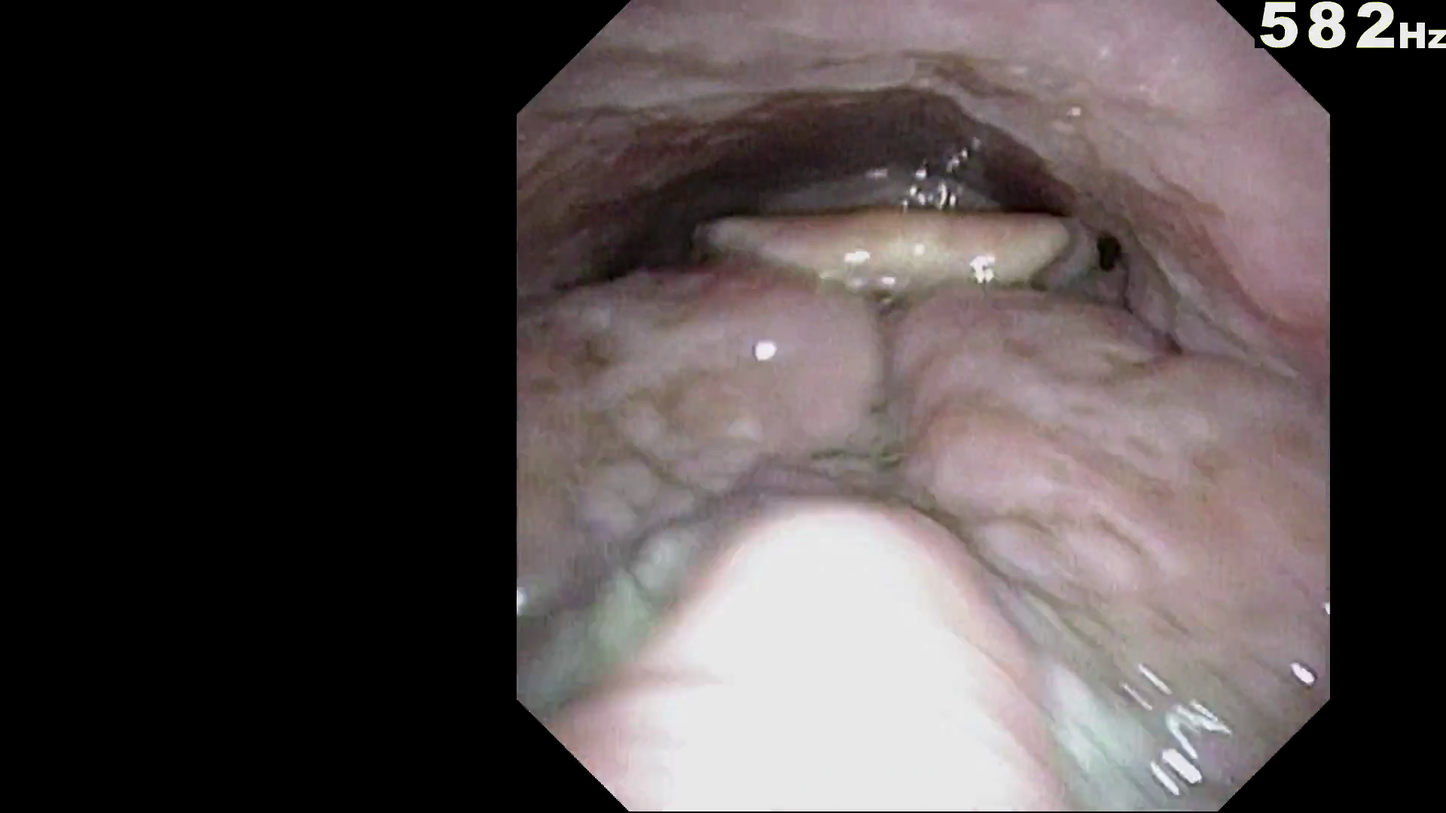epiglottis: (680, 254, 1143, 405)
trachea: (880, 330, 991, 453)
